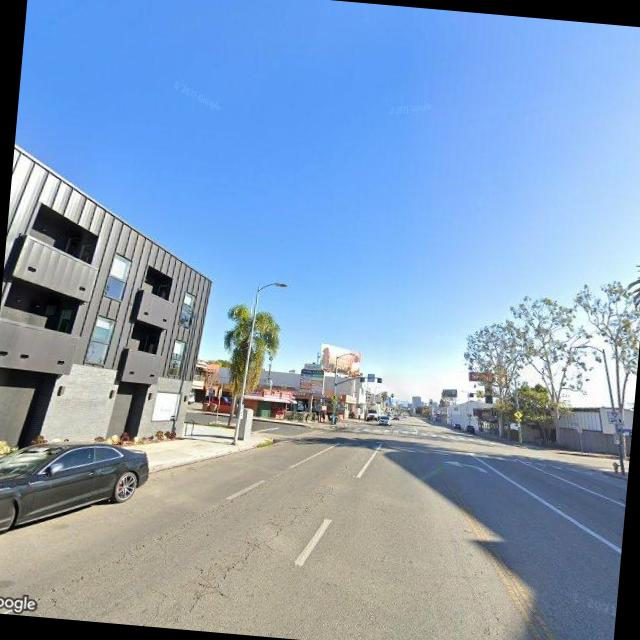crack: (151, 477, 325, 633)
pothole: (174, 468, 331, 624)
